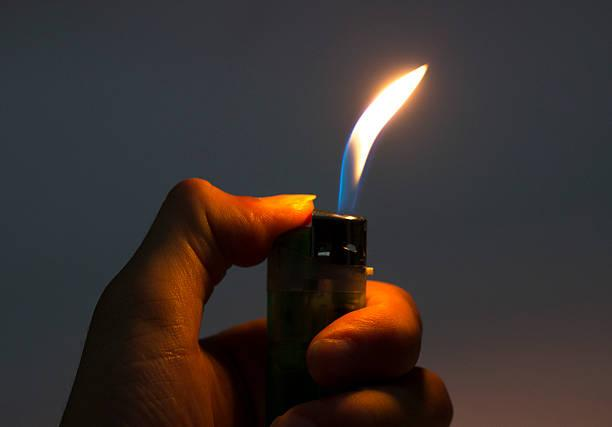Fire: (336, 65, 390, 210)
